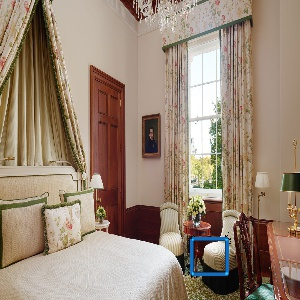square: (188, 236, 230, 277)
